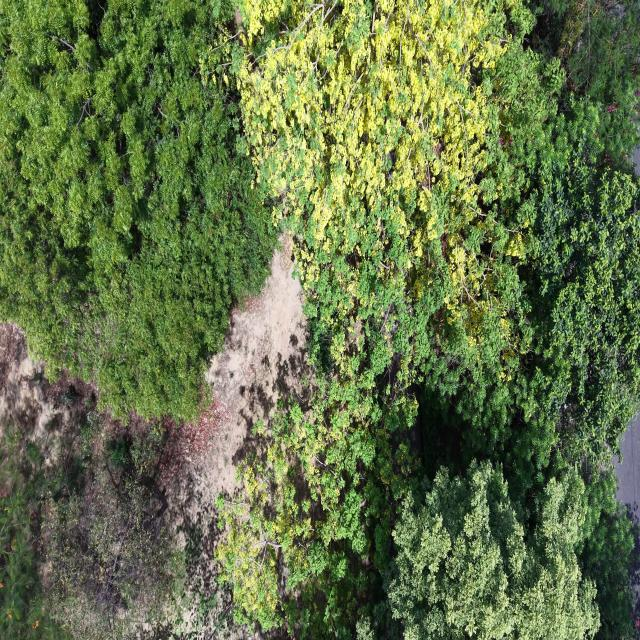DRY_AREA: (159, 238, 310, 595), (169, 238, 311, 614), (166, 238, 310, 589), (168, 241, 309, 588), (0, 324, 149, 637), (174, 251, 309, 508), (180, 241, 308, 499), (192, 243, 308, 505), (199, 254, 308, 493), (0, 324, 96, 466), (0, 324, 96, 459), (0, 324, 54, 431), (614, 417, 639, 525), (615, 416, 639, 525), (614, 418, 639, 520), (615, 417, 639, 513), (633, 147, 640, 175)
PATHWAYS: (616, 417, 639, 528)
VEGETATION_TREE: (0, 0, 639, 639), (220, 2, 639, 637), (231, 2, 562, 637), (0, 0, 275, 418), (0, 379, 188, 639), (385, 461, 633, 639), (522, 103, 639, 463), (386, 462, 599, 639), (43, 412, 182, 639), (531, 0, 639, 164), (0, 425, 67, 639), (580, 471, 637, 639)
